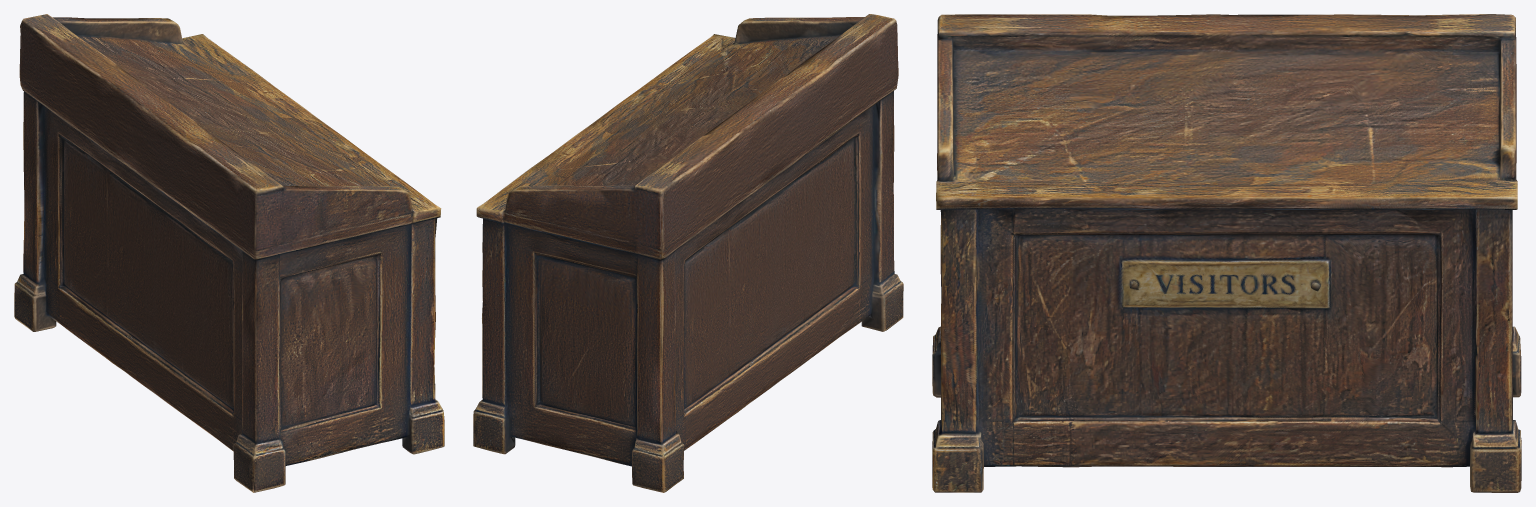
File: VisitorSignInDesk.fbx
3 renders of one model, left to right at view 1: azimuth 30°, elevation 25°; view 2: azimuth 150°, elevation 25°; view 3: azimuth 270°, elevation 25°, orthographic. The views are drawn at different scales.
Parts seen in each view (by area): view 1: tripo_node_1b25a2ae-62c9-4958-8bf9-0bf1f226d474; view 2: tripo_node_1b25a2ae-62c9-4958-8bf9-0bf1f226d474; view 3: tripo_node_1b25a2ae-62c9-4958-8bf9-0bf1f226d474.
Part boxes in pixels (<box>): tripo_node_1b25a2ae-62c9-4958-8bf9-0bf1f226d474: <box>14,14,444,492</box>; tripo_node_1b25a2ae-62c9-4958-8bf9-0bf1f226d474: <box>473,14,903,492</box>; tripo_node_1b25a2ae-62c9-4958-8bf9-0bf1f226d474: <box>932,14,1521,492</box>.
Size of the model in its own units: 46.28 by 68.95 by 100.
1 material, 1 textured.
